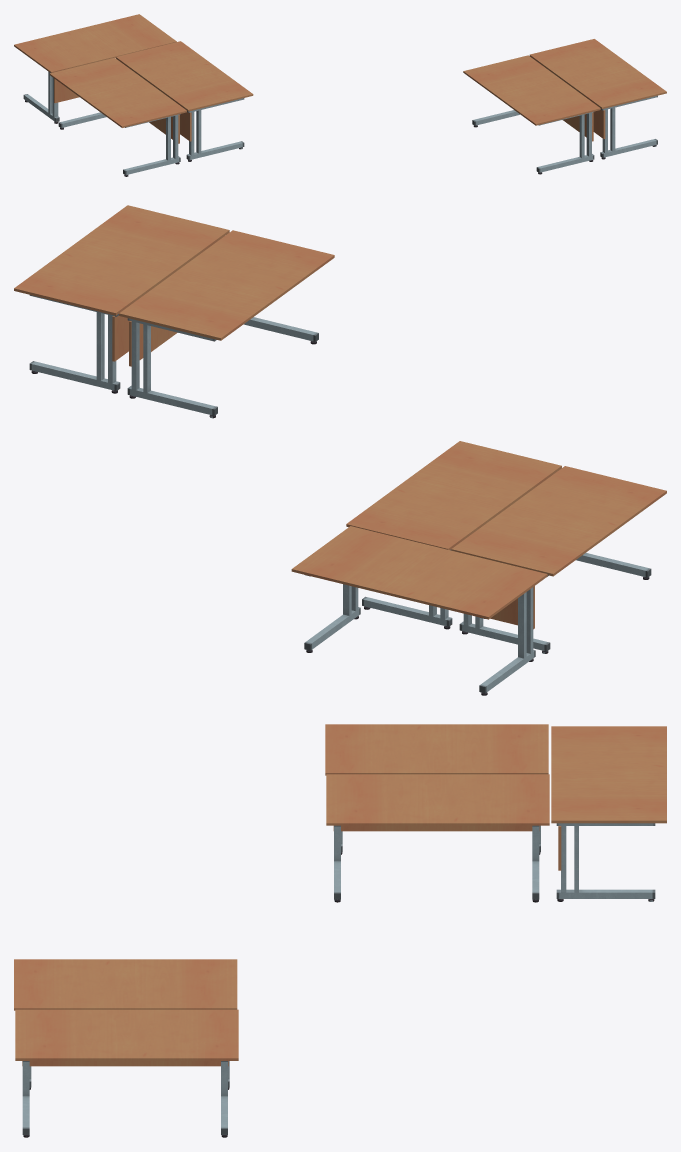
Rendered from woodTable.glb.
3 renders of one model, top to bottom at view 1: azimuth 30°, elevation 25°; view 2: azimuth 150°, elevation 25°; view 3: azimuth 270°, elevation 25°, orthographic. The views are drawn at different scales.
Parts seen in each view (by area): view 1: WoodenDesks; view 2: WoodenDesks; view 3: WoodenDesks.
Boxes of the visible parts, x1=… form: WoodenDesks: x1=14, y1=14, x2=666, y2=176; WoodenDesks: x1=14, y1=205, x2=666, y2=695; WoodenDesks: x1=14, y1=724, x2=666, y2=1137.
Size of the model in its own units: 4.68 by 0.5527 by 3.86.
1 material, 1 textured.
